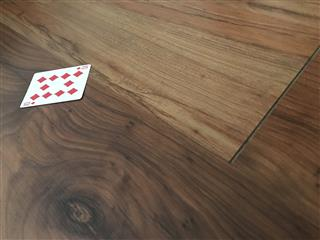TenOfDiamonds: (18, 62, 91, 108)
